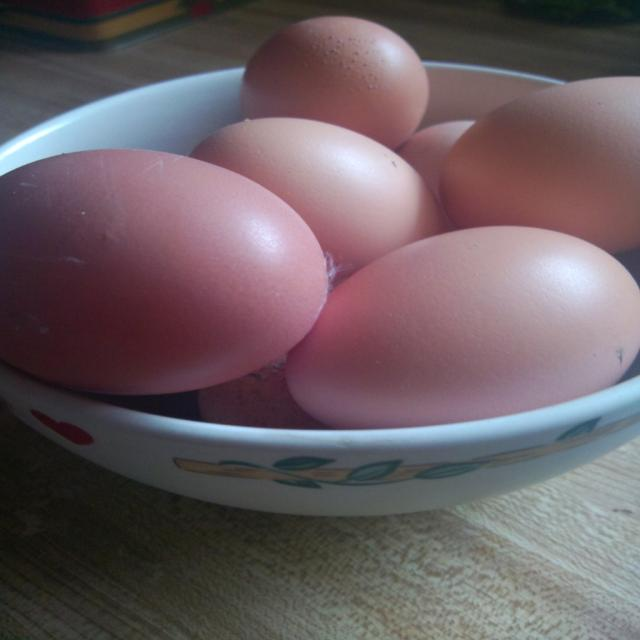Egg: (0, 17, 639, 429)
